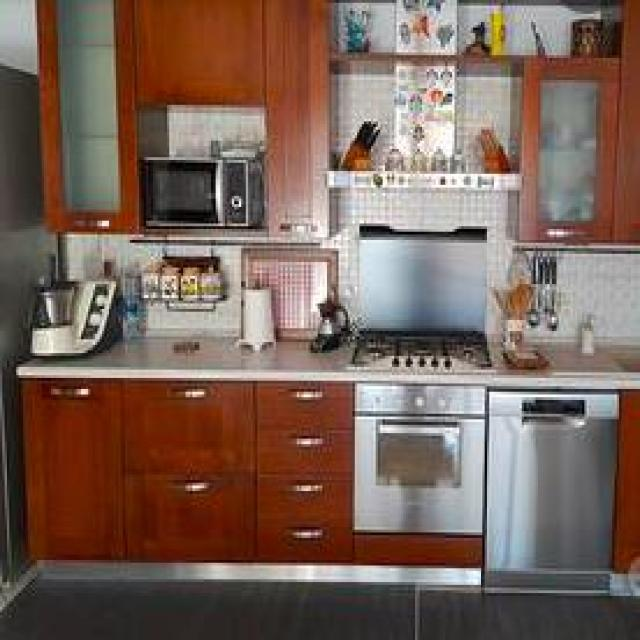dishwasher: (482, 386, 617, 593)
